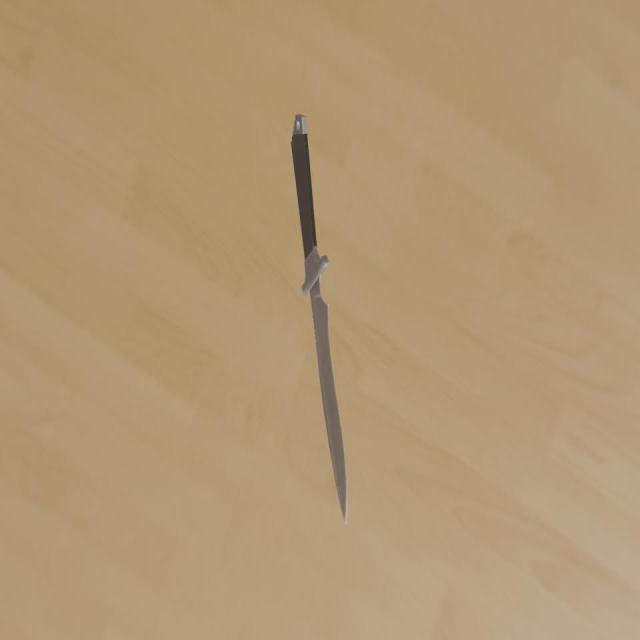knife: (291, 115, 317, 260)
